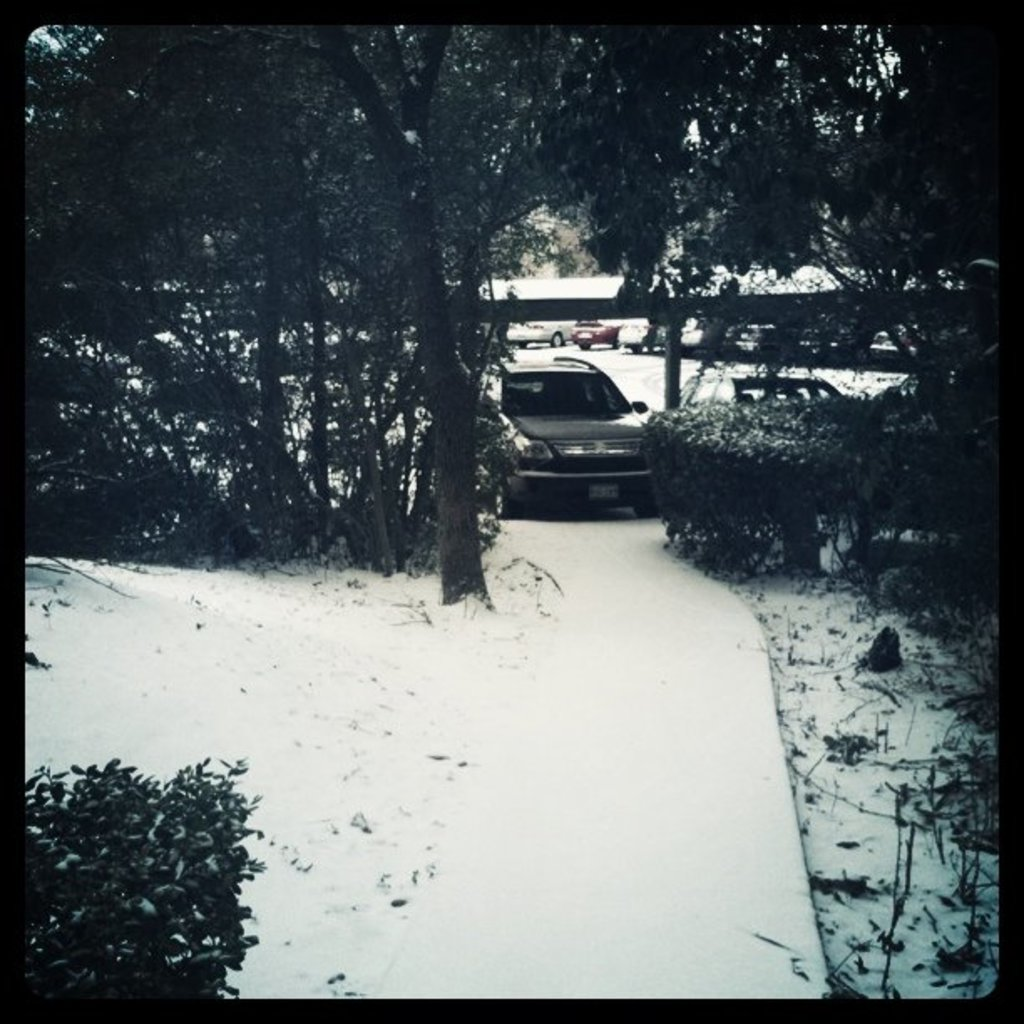Car: (486, 351, 650, 512), (677, 376, 828, 403), (510, 321, 577, 348), (583, 316, 625, 343)
